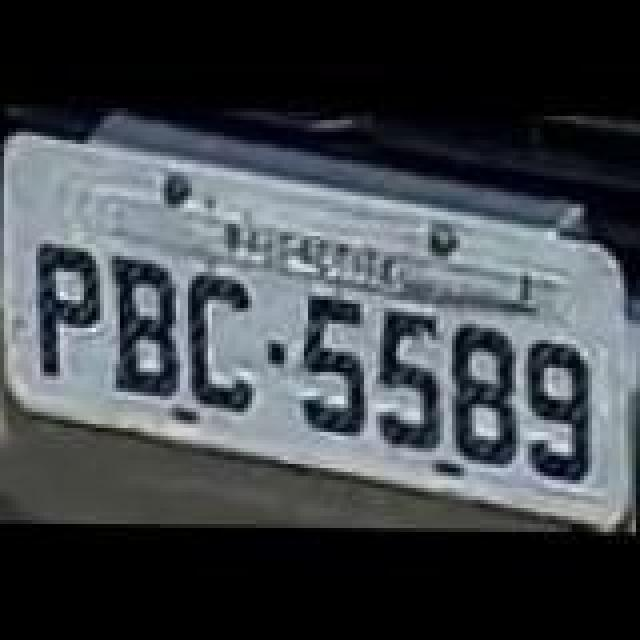5: (298, 294, 374, 442), (368, 310, 448, 450)
8: (442, 320, 518, 464)
9: (518, 334, 602, 482)
B: (110, 258, 186, 398)
C: (184, 272, 264, 416)
P: (30, 242, 106, 382)
